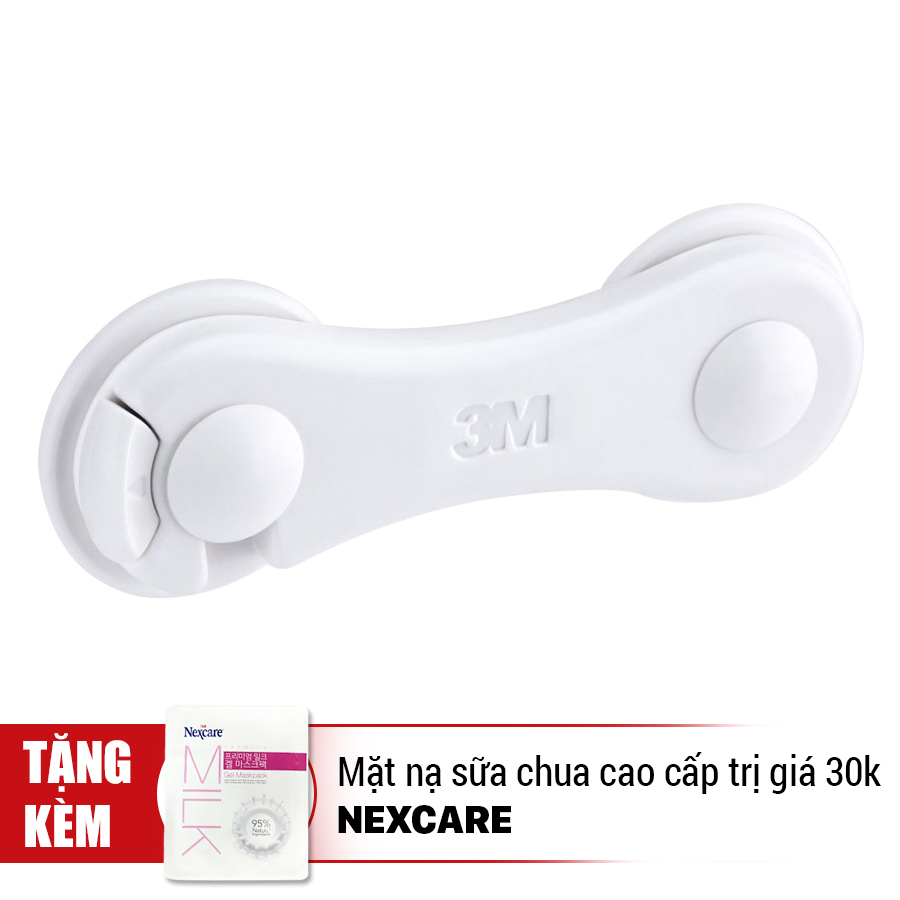3M: (441, 390, 562, 464)
